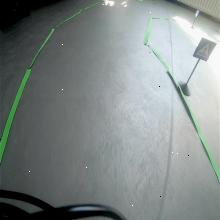crosswalk: (192, 36, 216, 64)
